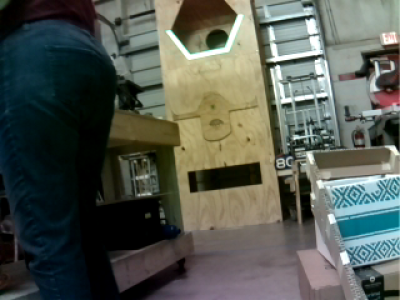target: (166, 13, 244, 60)
